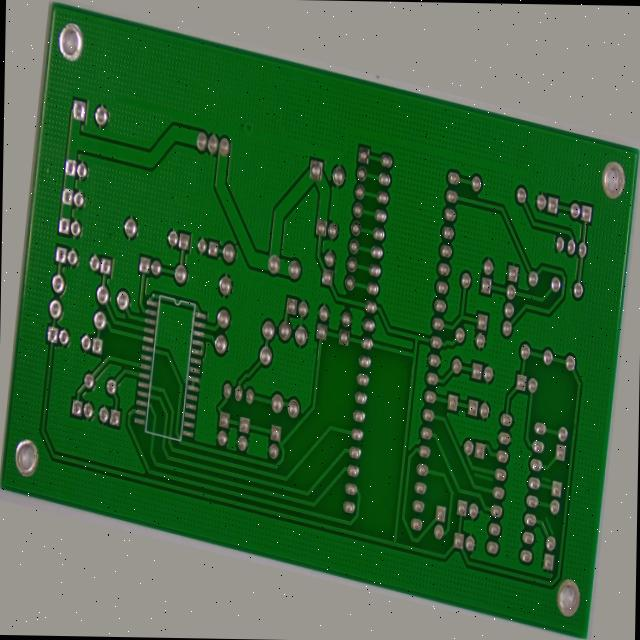spurious_copper: (491, 455, 518, 480), (572, 493, 590, 529), (564, 442, 581, 468)
